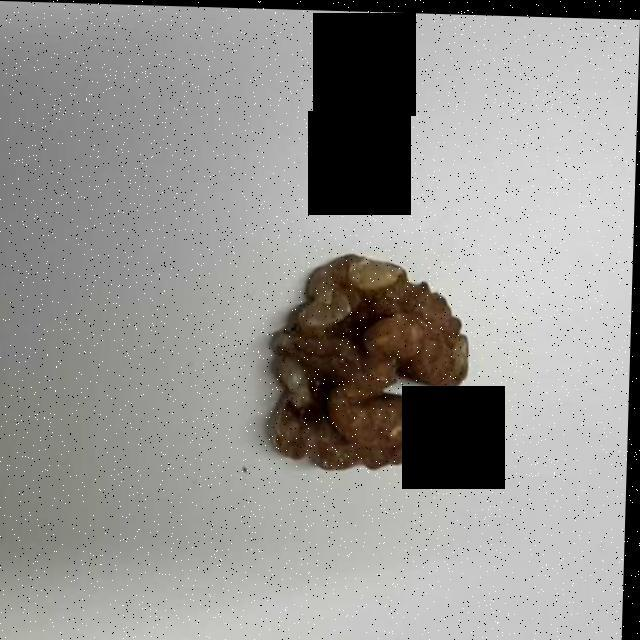walnut: (274, 254, 470, 464)
